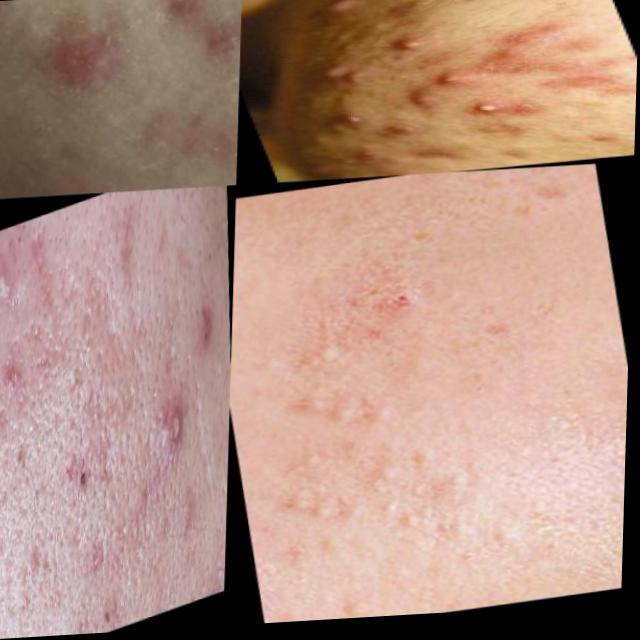8: (32, 25, 120, 107), (377, 38, 447, 61), (382, 126, 431, 143)
9: (161, 399, 195, 483), (0, 255, 21, 337), (415, 73, 488, 96), (459, 105, 521, 126), (330, 116, 376, 130)
blackheads: (142, 0, 242, 97), (187, 278, 229, 382)
pustules: (301, 59, 384, 99), (294, 0, 378, 22)
